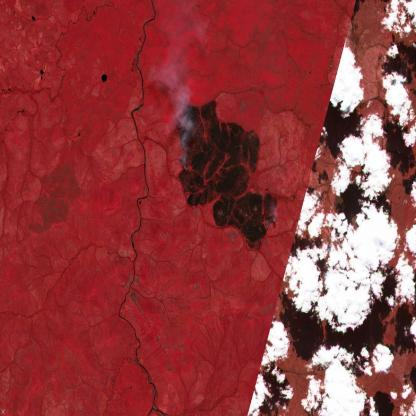fire: (165, 102, 196, 176), (260, 192, 284, 238)
